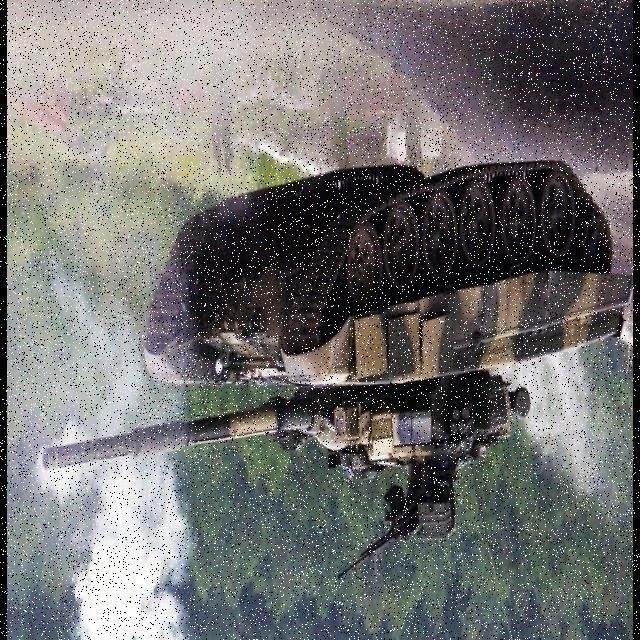MIL_MBT: (137, 148, 627, 548)
